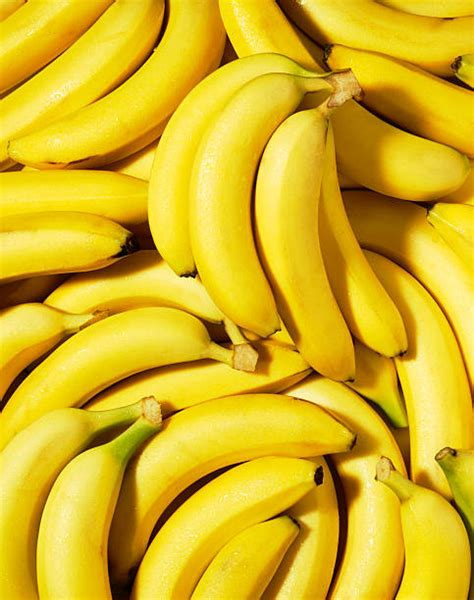banana: (108, 391, 360, 585), (181, 73, 314, 338), (253, 103, 359, 388)
